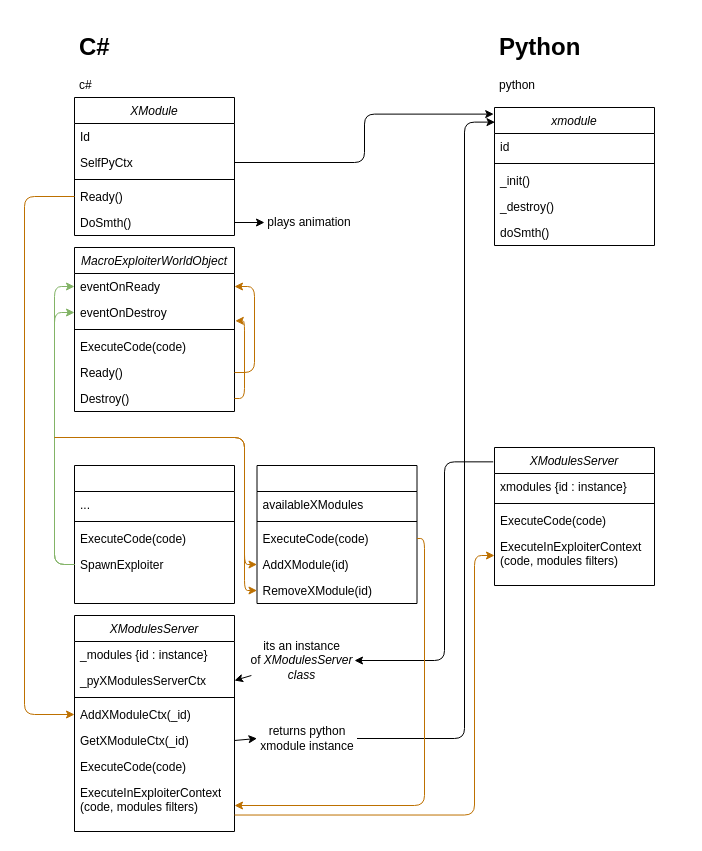
Some shapes in this 702 by 851 pixel diagram are drawn without their labels. The shapes that lost their labels are listed below. From the top down, each one's box as (x1, y1, x2, y2) in pixels, then its label:
(74, 464, 234, 604): MacroExploiterWeapon
(256, 464, 417, 604): MacroExploiterConsole
